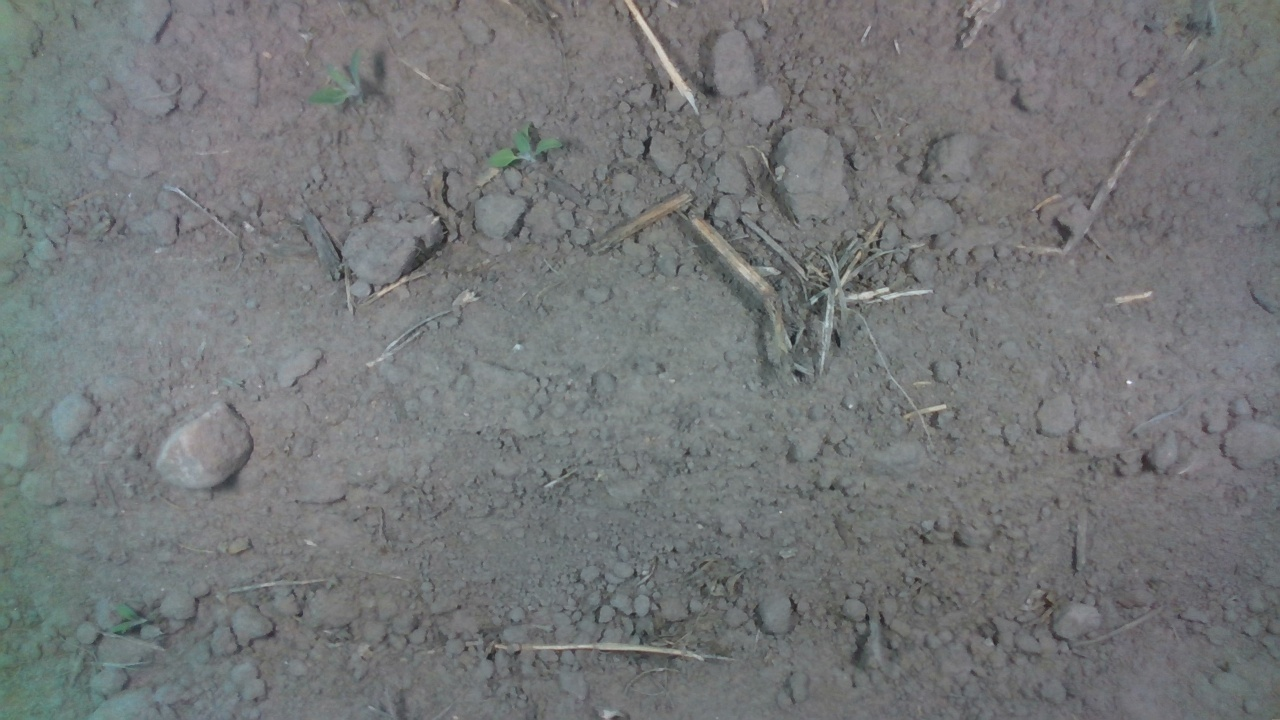weed: (484, 117, 565, 170)
